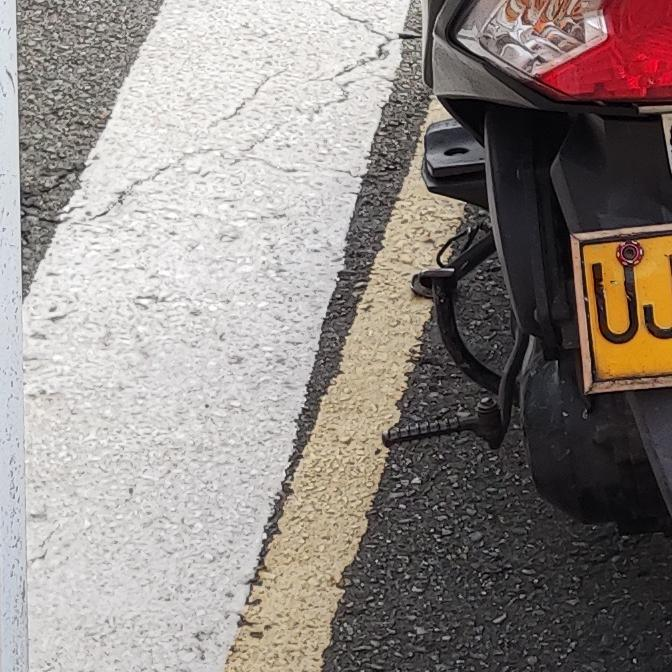plates: (566, 224, 672, 397)
